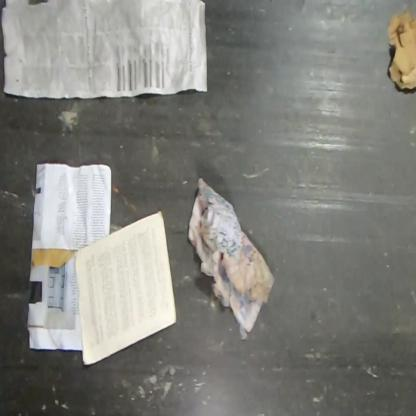cardboard: (388, 9, 415, 91)
